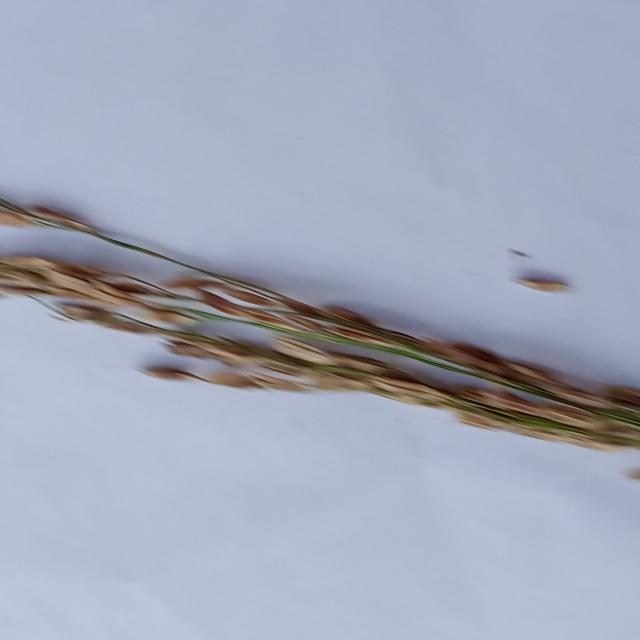Neck_Blast: (7, 262, 640, 448)
